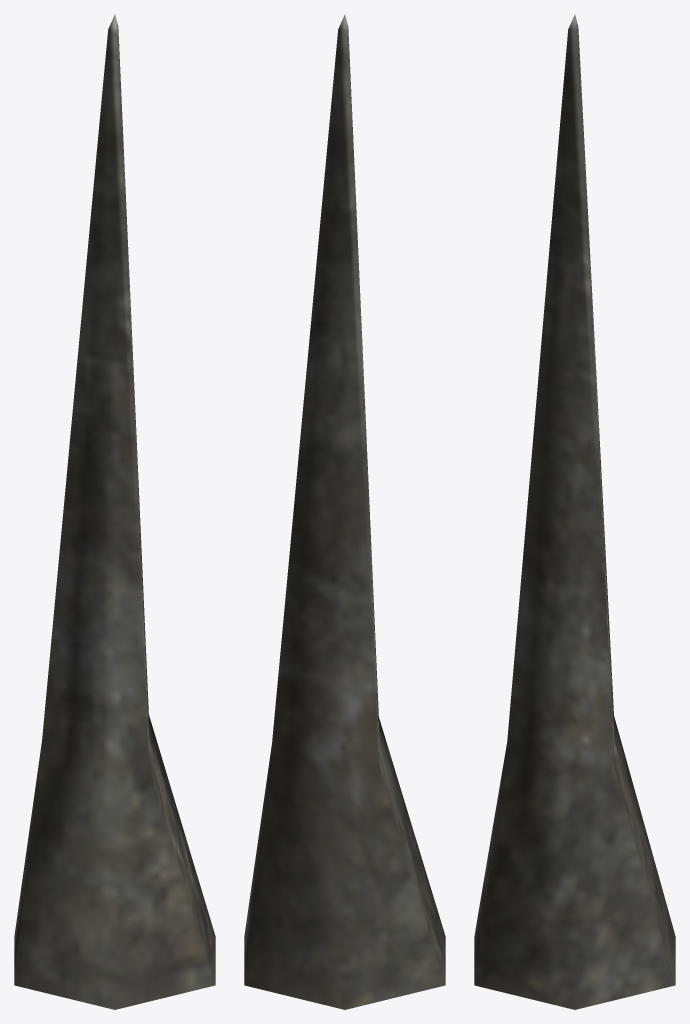
File: Stall_small1.fbx
3 views of the same model, side by side, from view 1: azimuth 30°, elevation 25°; view 2: azimuth 150°, elevation 25°; view 3: azimuth 270°, elevation 25° (orthographic).
Parts seen in each view (by area): view 1: pCylinder4; view 2: pCylinder4; view 3: pCylinder4.
Boxes of the visible parts, left/top/right/bottom form: pCylinder4: left=14, top=14, right=215, bottom=1009; pCylinder4: left=244, top=14, right=445, bottom=1009; pCylinder4: left=474, top=14, right=675, bottom=1009.
Bounding box in the file's own units: 0.5444 × 2.45 × 0.4714.
